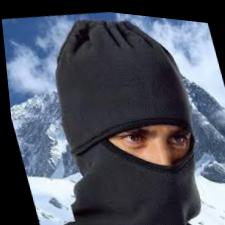WRONG: (84, 94, 214, 225)
